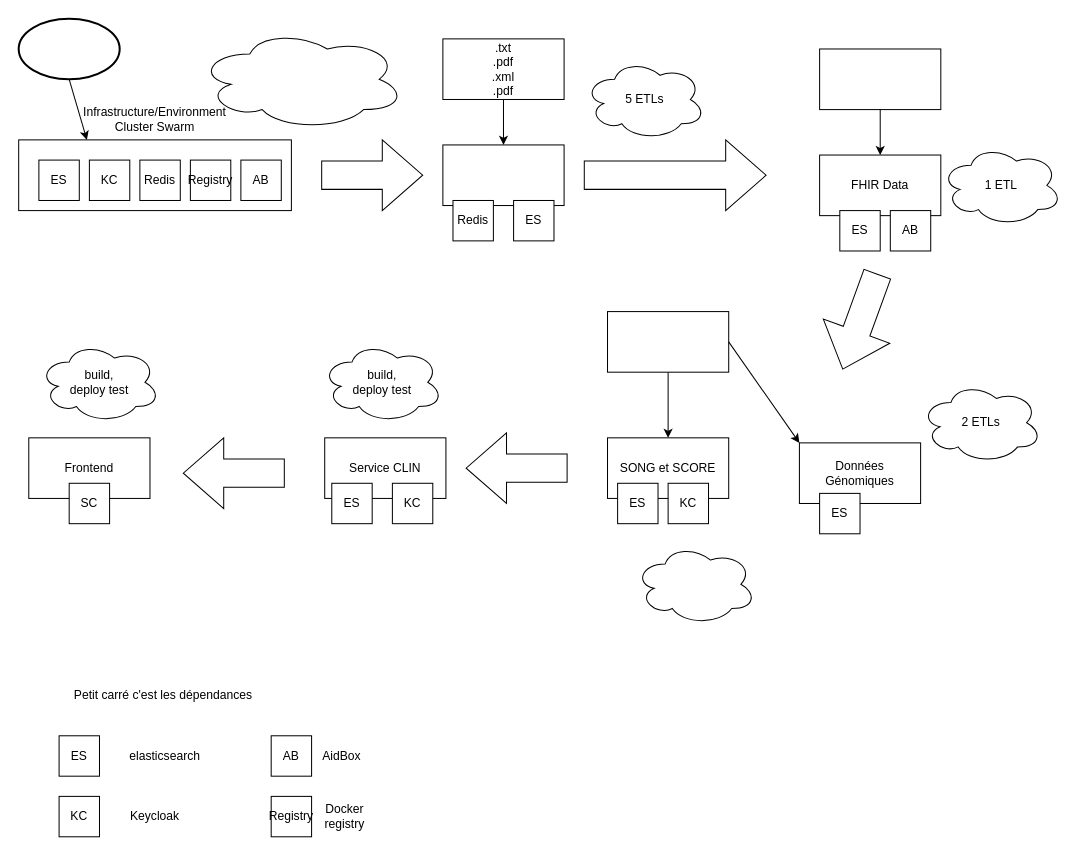
This 1080x854 diagram has some shape labels left out. Each missing label, with the centre of its shape:
Cellbase smembers Redis ETL Scala: the point at 503,175
Google Spreadsheet: the point at 880,79
Start: the point at 68,48
Terraform -> Ansible VMs -> swarm: the point at 301,79
VCFs exmosier etc...: the point at 668,341
